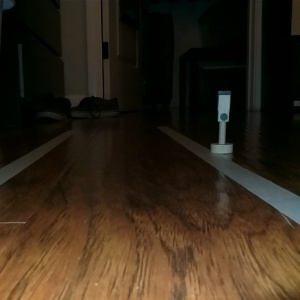traffic light green: (209, 87, 236, 156)
